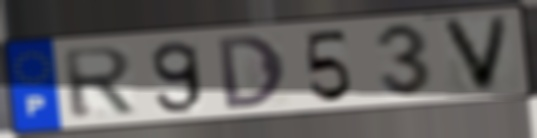3: (373, 21, 436, 100)
5: (301, 27, 355, 103)
9: (149, 39, 204, 115)
D: (213, 32, 289, 113)
R: (58, 45, 139, 122)
V: (437, 13, 515, 96)
